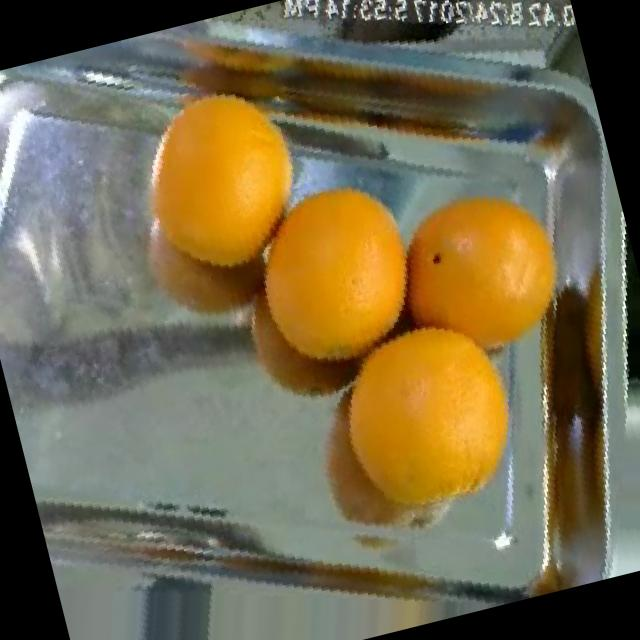Fruit: (209, 141, 458, 401)
